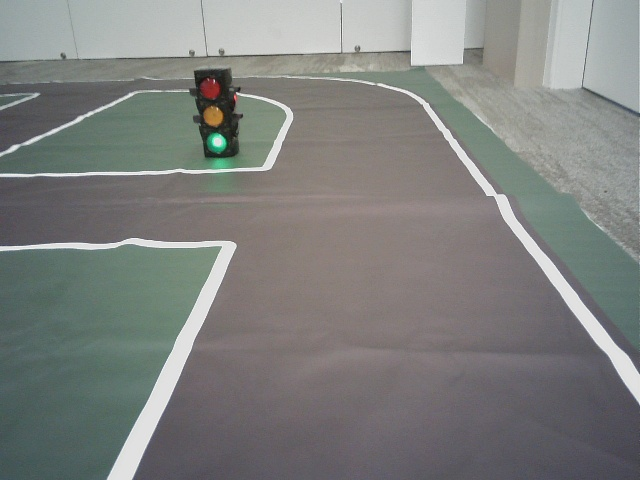green: (194, 73, 231, 152)
